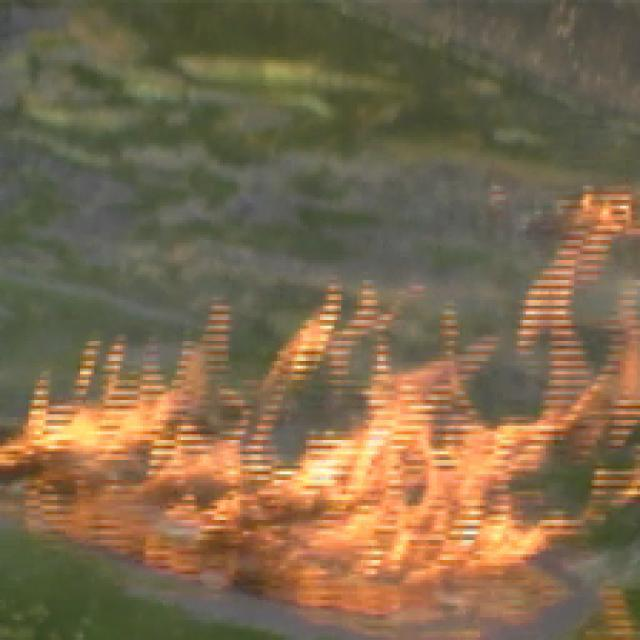Fire: (30, 297, 623, 640)
